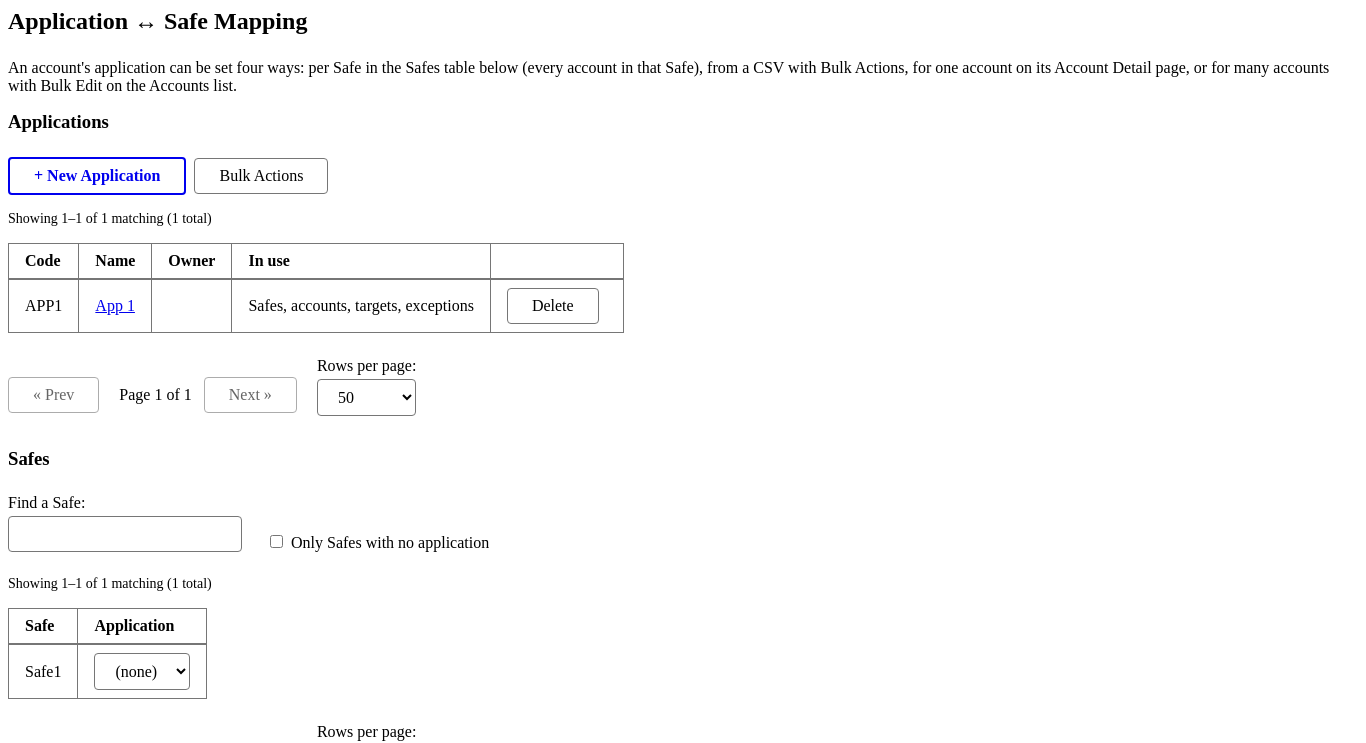
ApplicationSafeMapping.vue › assigning a Safe to an application › says so when the Safe is unassigned
Select "(none)" in the dropdown named "Application for safe Safe1" at [142, 672], box [94, 653, 190, 690]
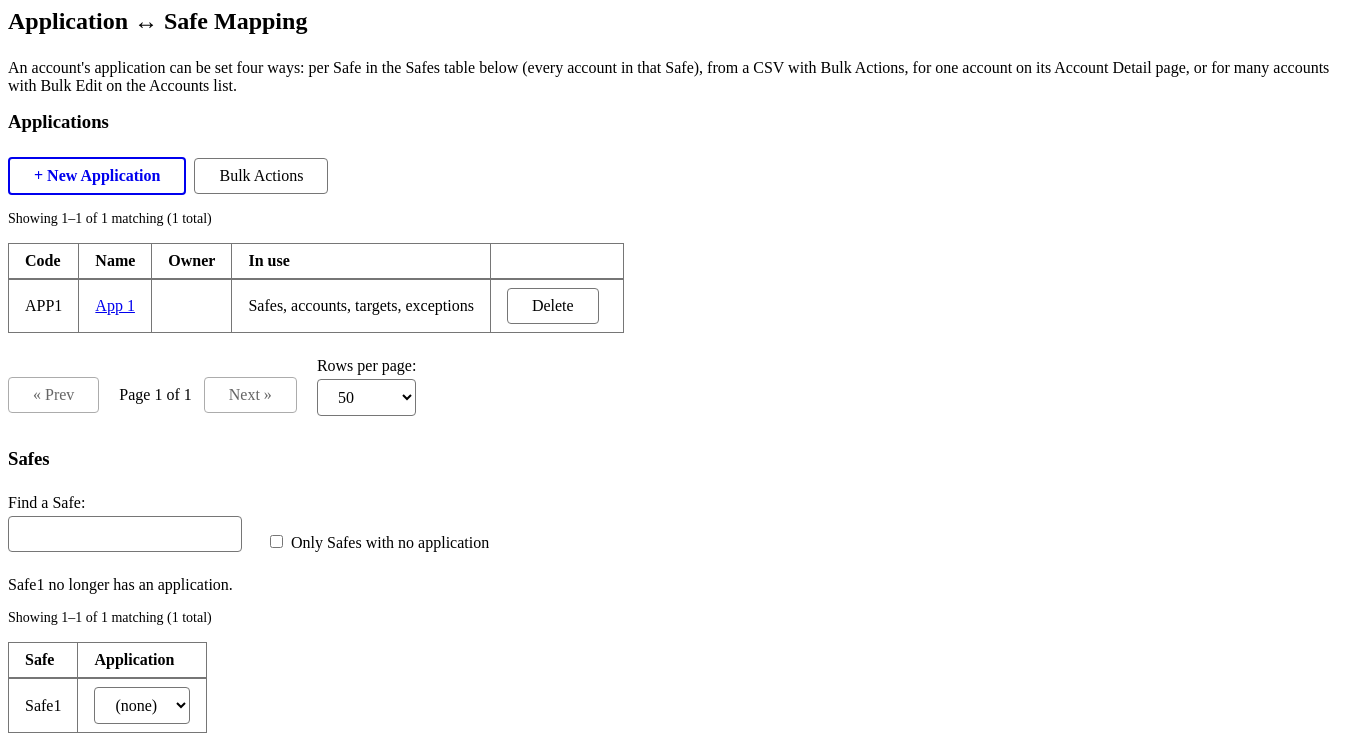
Expected: the message with class "assign-notice" reads "Safe1 no longer has an application.", [8, 576, 233, 593]
